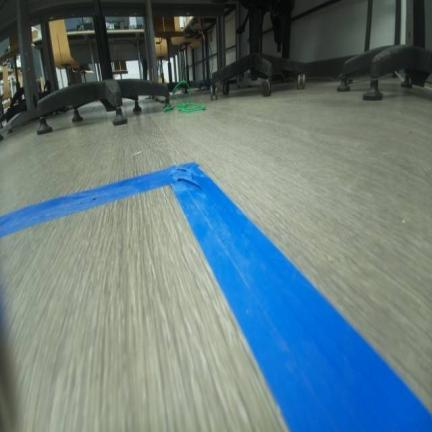place: (0, 159, 431, 431)
